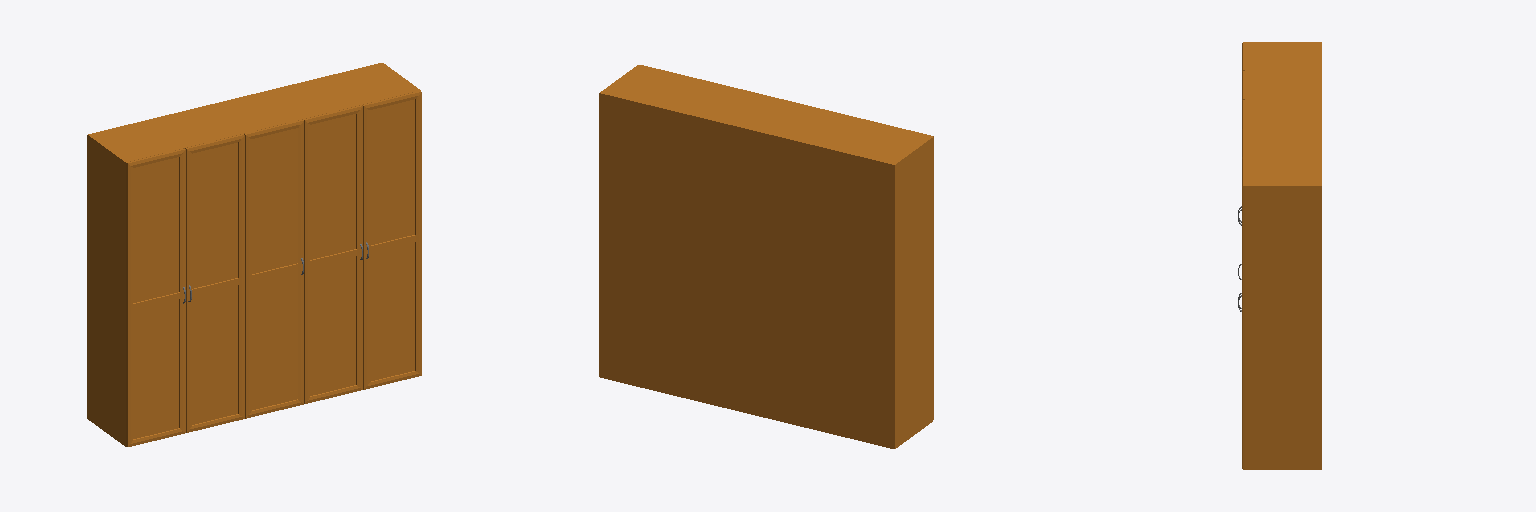
The model's file is armadio.obj.
3 views of the same model, side by side, from view 1: azimuth 30°, elevation 25°; view 2: azimuth 150°, elevation 25°; view 3: azimuth 270°, elevation 25° (orthographic).
Parts seen in each view (by area): view 1: wardrobe_Cube.025; view 2: wardrobe_Cube.025; view 3: wardrobe_Cube.025.
Boxes of the visible parts, <box> form: wardrobe_Cube.025: <box>87,63,421,446</box>; wardrobe_Cube.025: <box>599,65,933,448</box>; wardrobe_Cube.025: <box>1242,42,1321,469</box>.
Size of the model in its own units: 250 by 230 by 61.21.